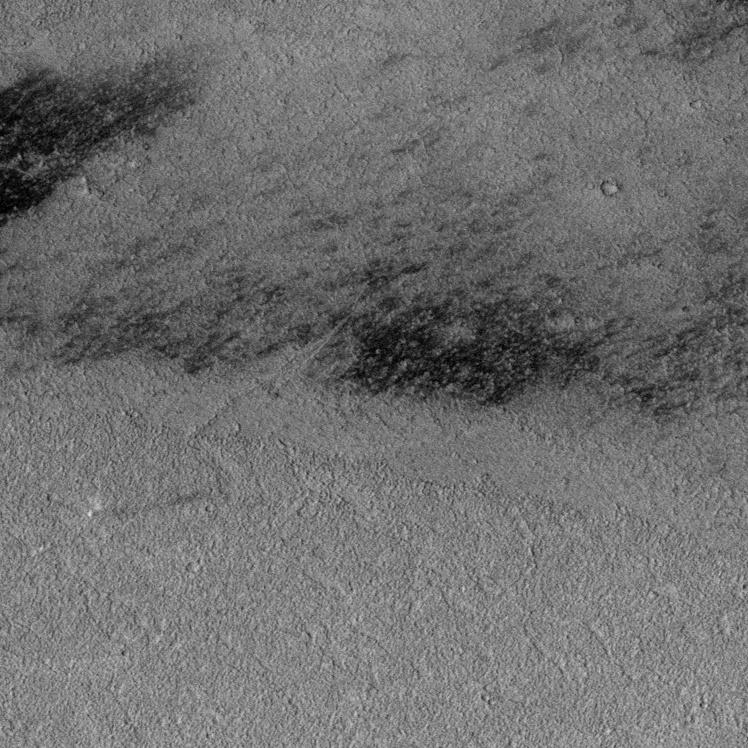dust_devil: (85, 490, 202, 519)
